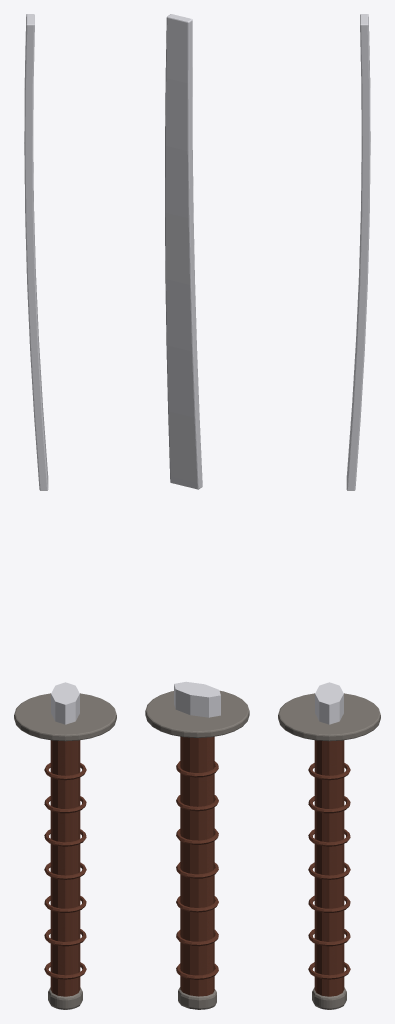
Rendered from katana.glb.
3 views of the same model, side by side, from view 1: azimuth 90°, elevation 25°; view 2: azimuth 150°, elevation 25°; view 3: azimuth 270°, elevation 25° (orthographic).
Parts seen in each view (by area): view 1: katana; view 2: katana; view 3: katana.
Boxes of the visible parts, <box> form: katana: <box>14,14,116,1009</box>; katana: <box>145,14,249,1009</box>; katana: <box>278,14,380,1009</box>.
Bounding box in the file's own units: 0.07 × 0.74 × 0.07.
Materials: 3 (1 with a texture image).
